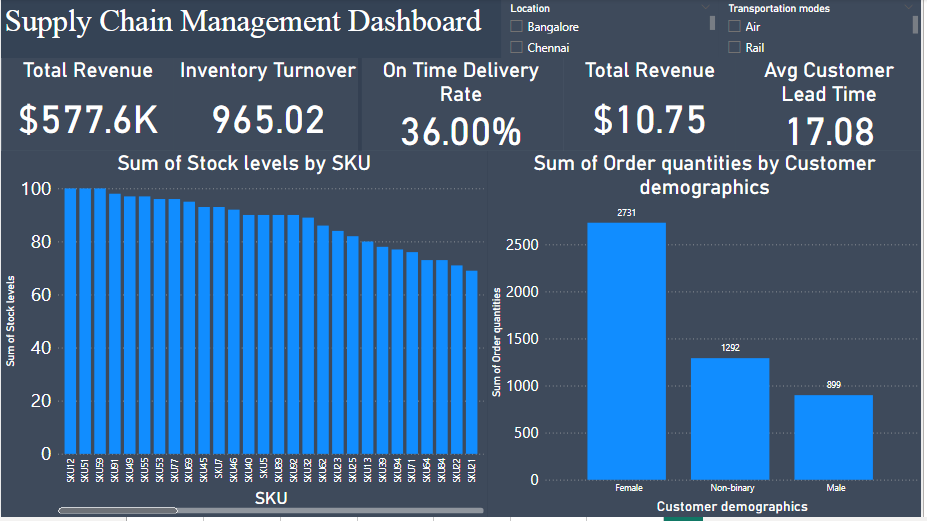

This screenshot's page, from the dashboard's own definition file:
{"tool":"powerbi","page":{"name":"Page 2","canvas":[1280,720],"ordinal":1},"visuals":[{"type":"textbox","box":[0,0,695,82],"z":0},{"type":"card","title":"Total Revenue","fields":{"Values":["supply_chain_data.Total Revenue"]},"box":[1.4,82,239.1,129.3],"z":1000},{"type":"card","title":"Inventory Turnover","fields":{"Values":["supply_chain_data.Stock Turnover Rate"]},"box":[240.5,82,261.3,129.3],"z":2000},{"type":"card","title":"On Time Delivery Rate ","fields":{"Values":["supply_chain_data.Defect Rate"]},"box":[496.2,82,286.3,129.3],"z":3000},{"type":"card","title":"Total Revenue","fields":{"Values":["supply_chain_data.Cost per order"]},"box":[782.5,82,239.1,129.3],"z":4000},{"type":"card","title":"Avg Customer Lead Time","fields":{"Values":["Avg(supply_chain_data.Lead time)"]},"box":[1021.6,82,258.5,129.3],"z":5000},{"type":"slicer","fields":{"Values":["supply_chain_data.Location"]},"box":[695,0,303,82],"z":6000},{"type":"columnChart","fields":{"Category":["supply_chain_data.SKU"],"Y":["Sum(supply_chain_data.Stock levels)"]},"box":[0,211.3,675.5,508.7],"z":7000},{"type":"columnChart","fields":{"Category":["supply_chain_data.Customer demographics"],"Y":["Sum(supply_chain_data.Order quantities)"]},"box":[675.5,211.3,604.6,508.7],"z":8000},{"type":"slicer","fields":{"Values":["supply_chain_data.Transportation modes"]},"box":[997.8,0,282.2,82],"z":9000}]}

Visuals, with their boxes in screenshot pixels (x1, y1, x2, y2), scaled from the page's 1280x720 canvas onto the 927x521 screenshot:
textbox: crop(0, 0, 503, 59)
"Total Revenue" card: crop(1, 59, 174, 153)
"Inventory Turnover" card: crop(174, 59, 363, 153)
"On Time Delivery Rate " card: crop(359, 59, 567, 153)
"Total Revenue" card: crop(567, 59, 740, 153)
"Avg Customer Lead Time" card: crop(740, 59, 926, 153)
slicer - supply_chain_data.Location: crop(503, 0, 723, 59)
columnChart - supply_chain_data.SKU x Sum(supply_chain_data.Stock levels): crop(0, 153, 489, 520)
columnChart - supply_chain_data.Customer demographics x Sum(supply_chain_data.Order quantities): crop(489, 153, 926, 520)
slicer - supply_chain_data.Transportation modes: crop(723, 0, 926, 59)
